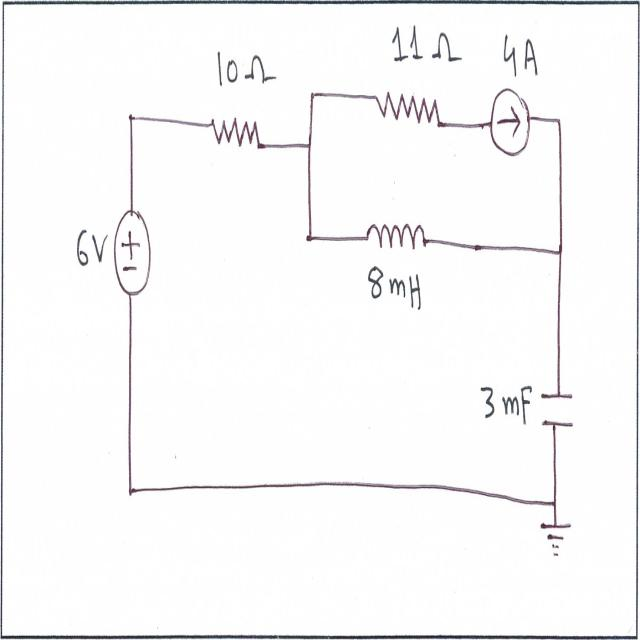capacitor: (539, 373, 576, 439)
current_source: (487, 80, 535, 166)
ground: (536, 511, 575, 572)
inductor: (361, 215, 434, 262)
resistor: (369, 77, 452, 141), (204, 94, 267, 164)
voltage_source: (112, 196, 153, 306)
